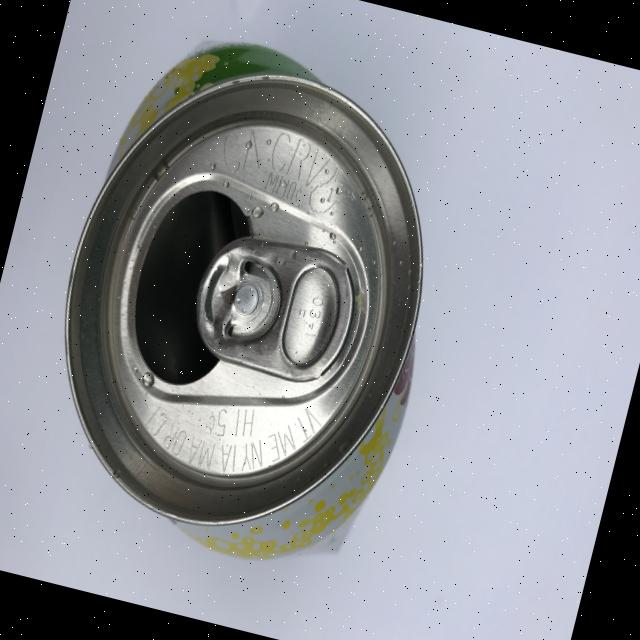metal: (14, 16, 482, 583)
